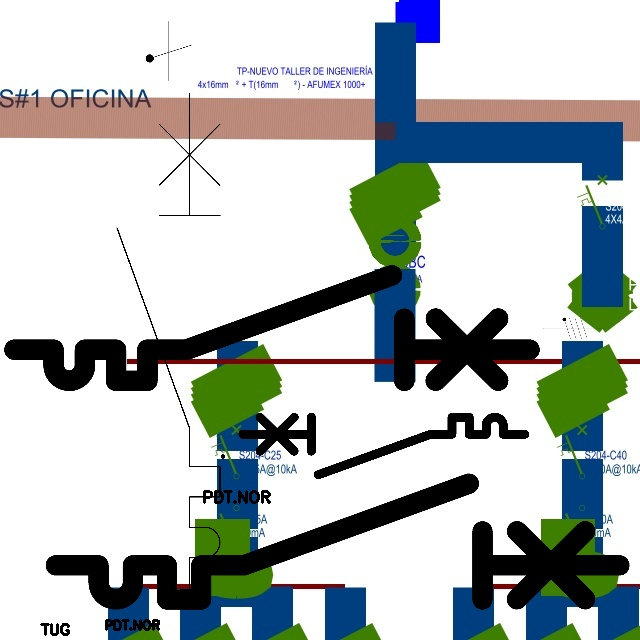interruptor_termomagnetico: (41, 469, 634, 614), (1, 262, 542, 394), (104, 80, 233, 608), (235, 410, 532, 482)
